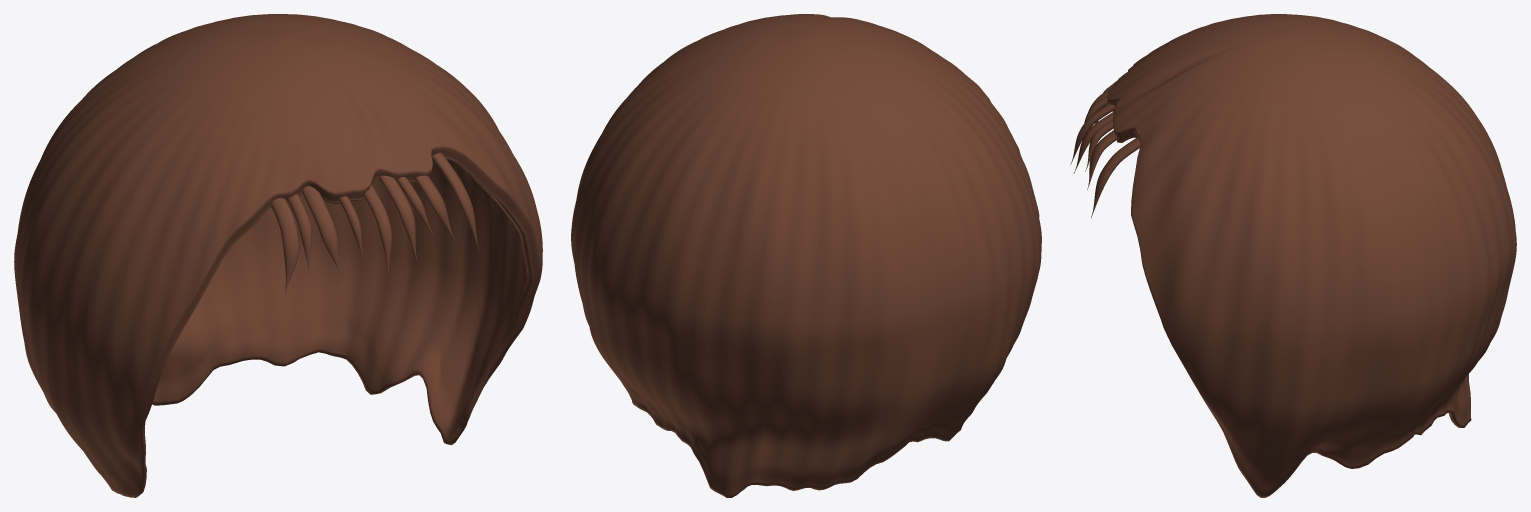
The model's file is side-sweep-pashmina.glb.
3 views of the same model, side by side, from view 1: azimuth 30°, elevation 25°; view 2: azimuth 150°, elevation 25°; view 3: azimuth 270°, elevation 25° (orthographic). The views are drawn at different scales.
Visible parts, largest first — view 1: Hair / layered lob, Fringe / tapered lock 01, Fringe / tapered lock 03, Fringe / tapered lock 09, Fringe / tapered lock 06, Fringe / tapered lock 05, Fringe / tapered lock 02, Fringe / tapered lock 08; view 2: Hair / layered lob; view 3: Hair / layered lob, Fringe / tapered lock 09.
Part boxes in pixels (<box>): Hair / layered lob: <box>14,14,542,497</box>; Fringe / tapered lock 01: <box>270,198,299,295</box>; Fringe / tapered lock 03: <box>302,185,341,276</box>; Fringe / tapered lock 09: <box>432,152,479,250</box>; Fringe / tapered lock 06: <box>379,175,417,260</box>; Fringe / tapered lock 05: <box>364,184,391,274</box>; Fringe / tapered lock 02: <box>287,194,311,272</box>; Fringe / tapered lock 08: <box>415,175,454,239</box>; Hair / layered lob: <box>571,14,1041,497</box>; Hair / layered lob: <box>1107,14,1516,497</box>; Fringe / tapered lock 09: <box>1091,137,1140,218</box>.
Size of the model in its own units: 0.8384 by 0.7657 by 0.7909.
